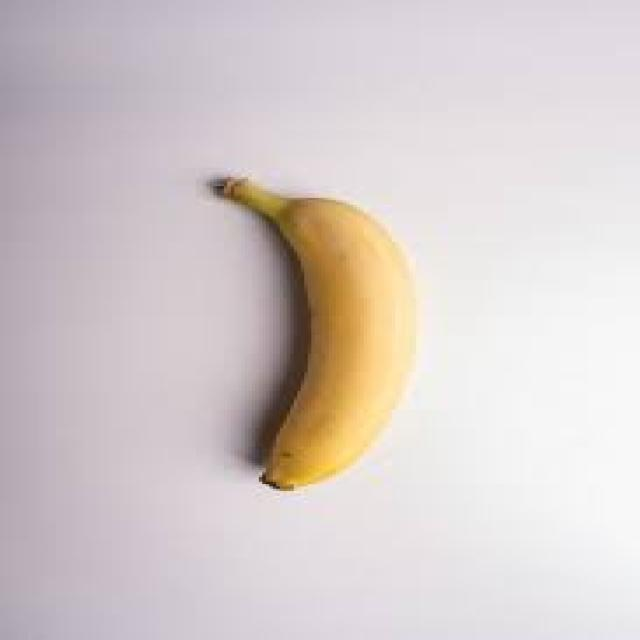banana: (206, 172, 416, 491)
